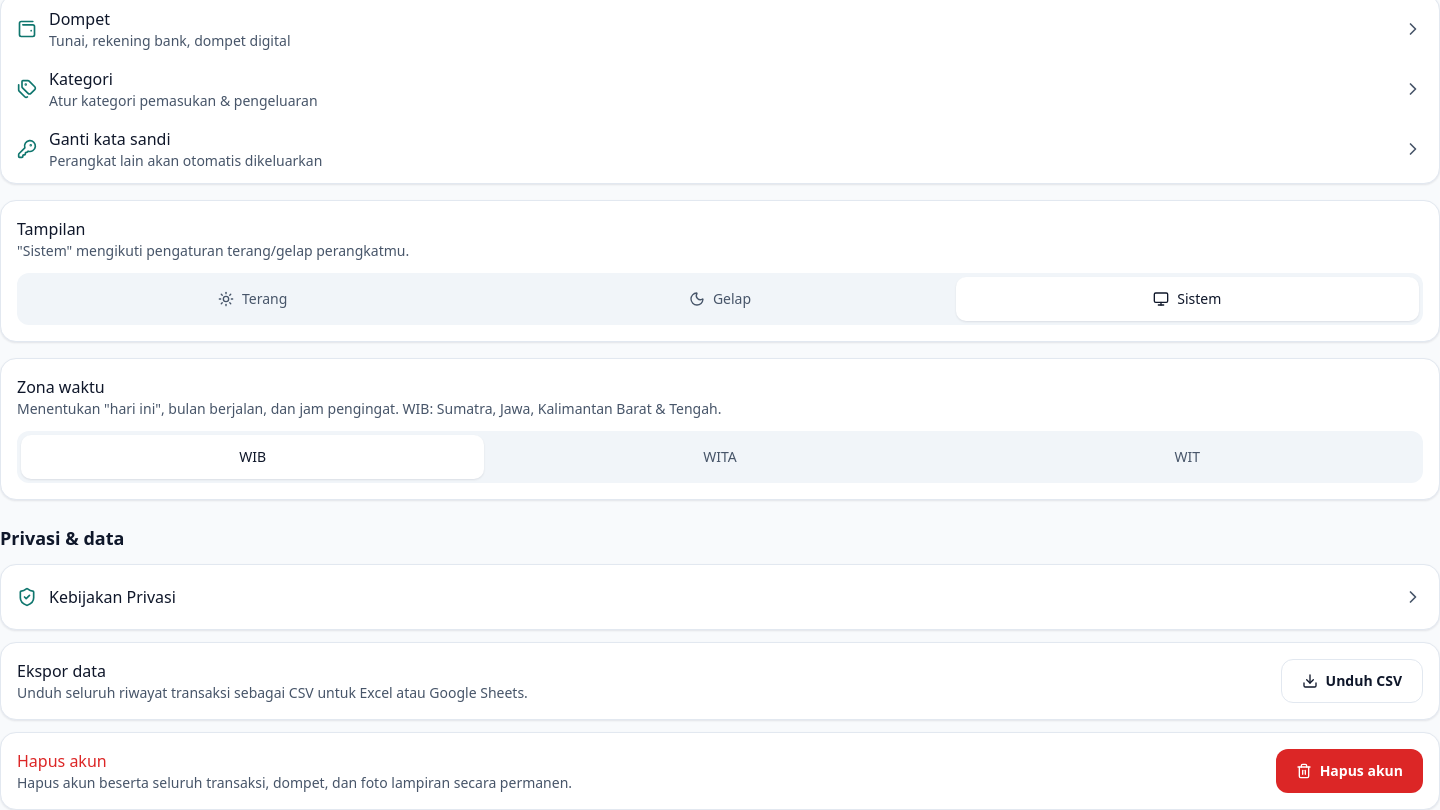
Test: ProfilePage › kata sandi salah saat hapus akun ditampilkan di kolomnya
(page scrolled)
Click the button "Hapus akun" at (1349, 771), box top-left (1276, 749), bottom-right (1423, 793)
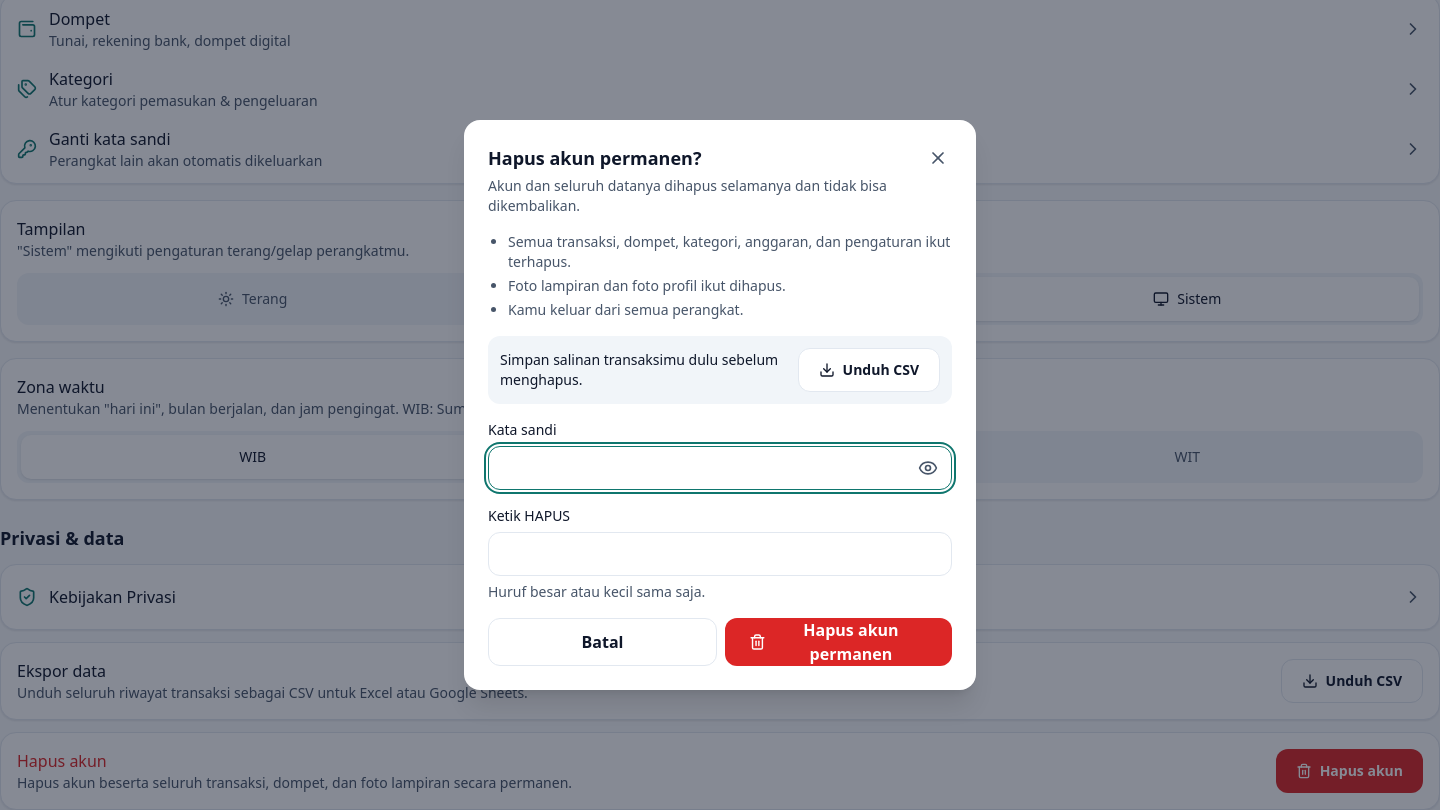
Type "salahsekali" into the password field labelled "Kata sandi" at (720, 468), box top-left (488, 446), bottom-right (952, 490)
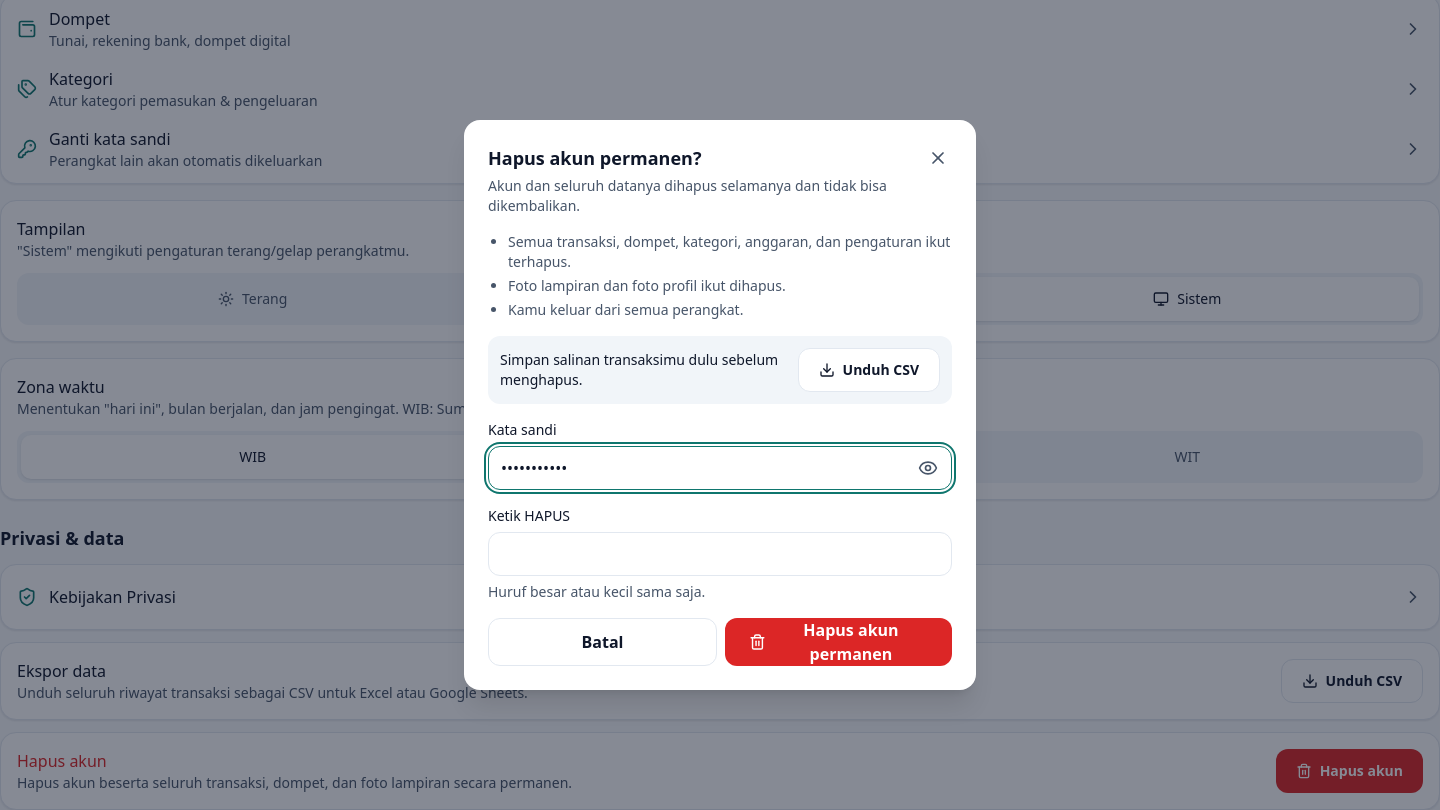
Type "HAPUS" into the field labelled "Ketik HAPUS" at (720, 554), box top-left (488, 532), bottom-right (952, 576)
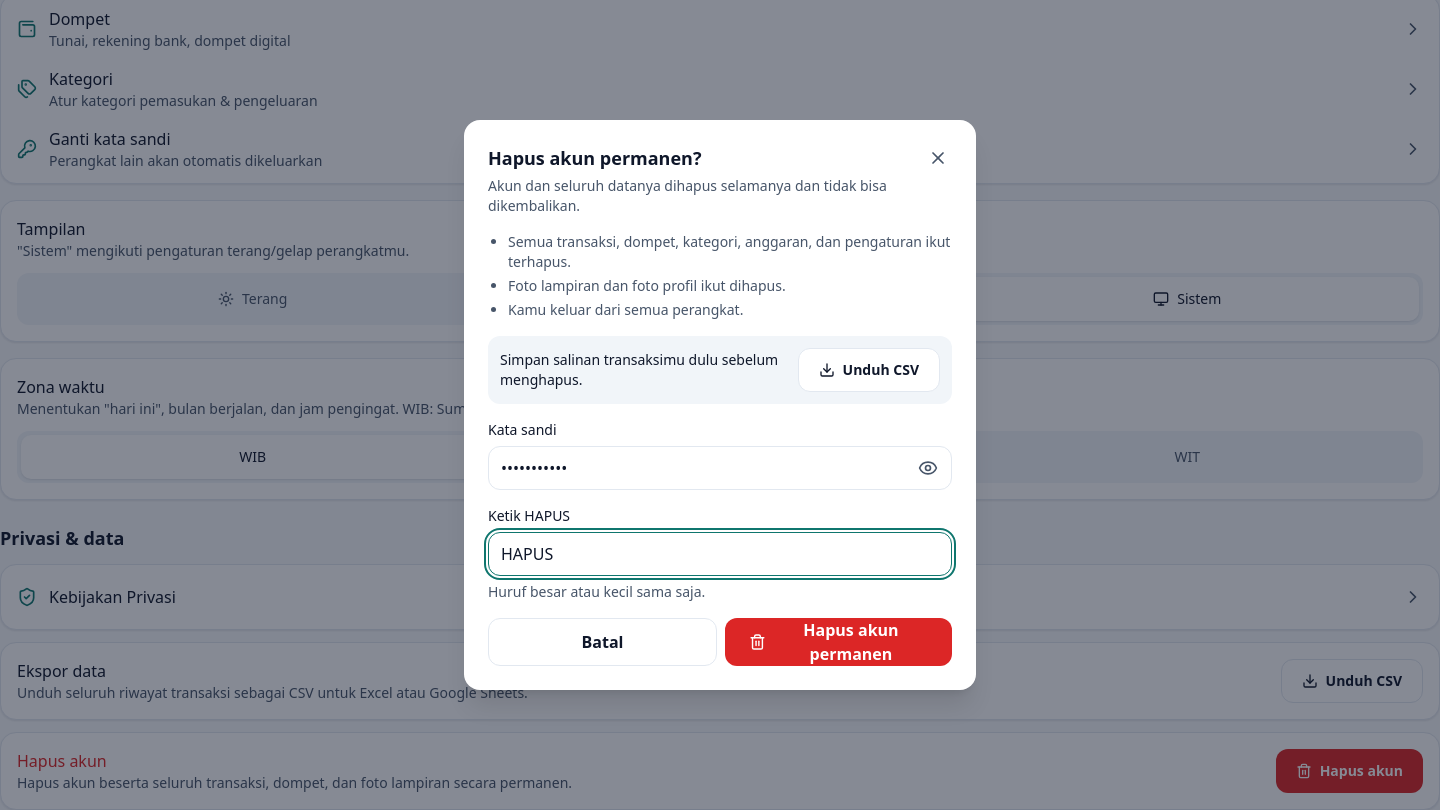
Click the button "Hapus akun permanen" at (838, 642), box top-left (725, 618), bottom-right (952, 666)
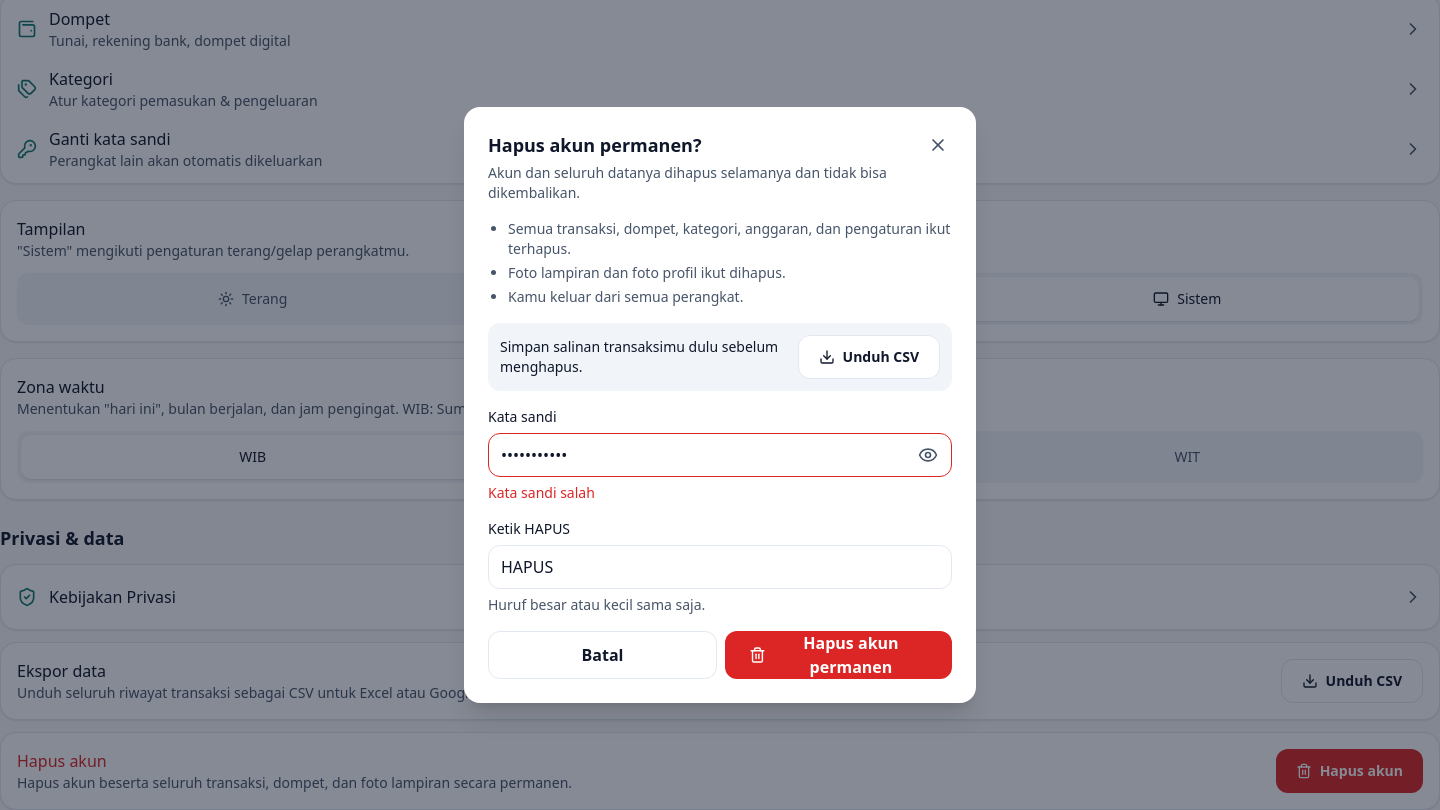
Expected: the dialog is shown, top-left (464, 107), bottom-right (976, 703)
Expected: the text "Kata sandi salah" is shown, top-left (488, 483), bottom-right (595, 502)
